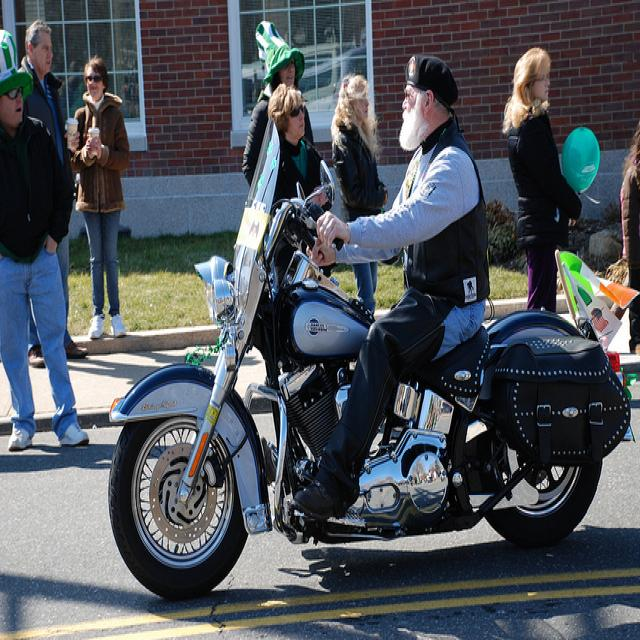motor: (104, 126, 625, 597)
